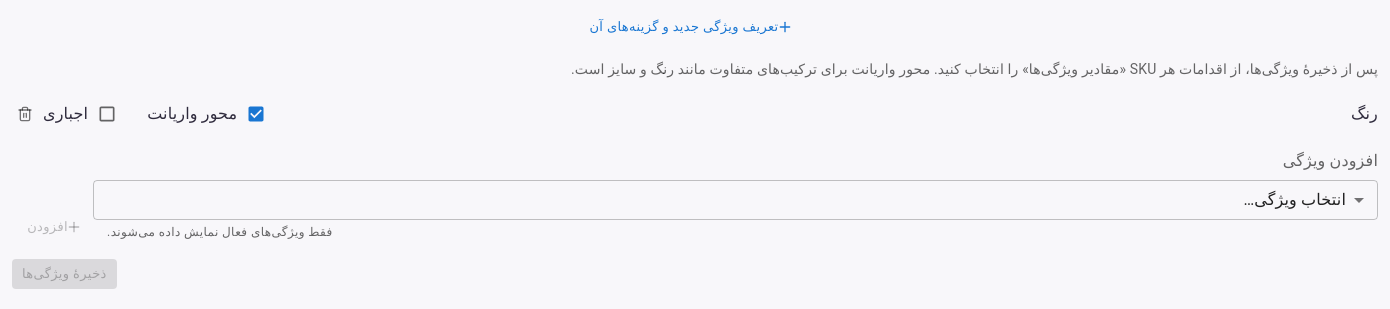
Test case: AttributeConfigEditor › drops the required flag when an axis is unchecked and hides the save button without changes
Step 1. Click the checkbox named "color محور واریانت" → x=207, y=114, box [147,104,266,124]
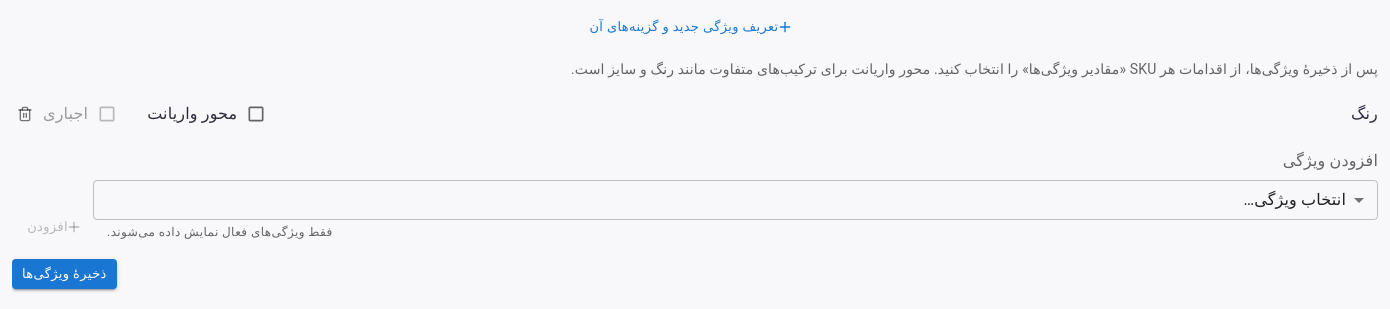
Now the button "ذخیرهٔ ویژگی‌ها" is enabled, box [12,259,117,290]
